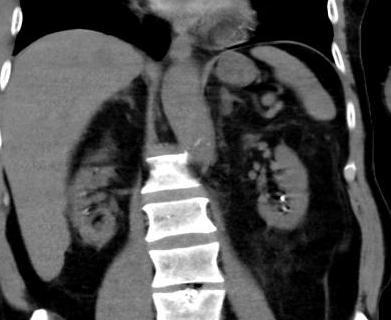Tas_Var: (281, 205, 289, 212), (280, 193, 286, 202)
